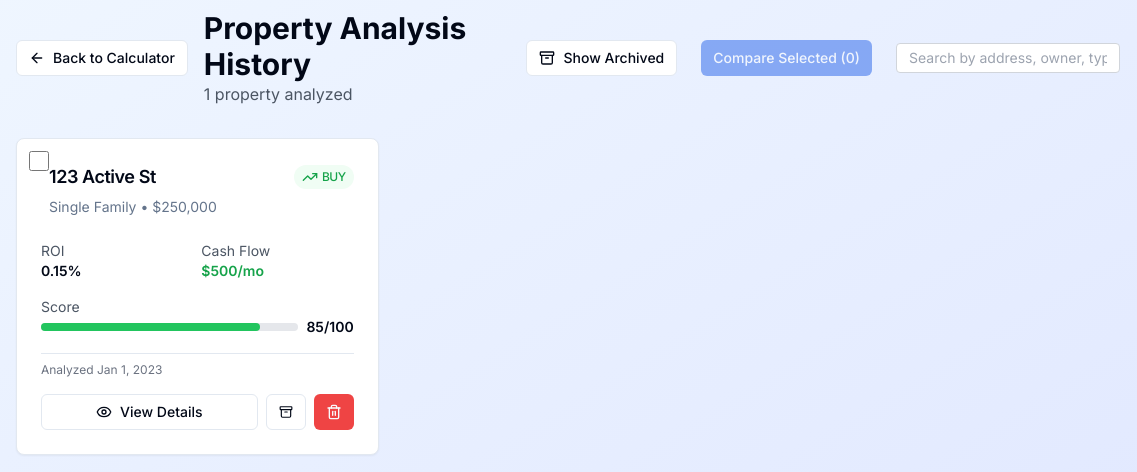
Scenario: Property Archive UI › Archive Filter Toggle › should toggle to show archived properties when clicked
Expected: the text "123 Active St" is shown, [49,166,156,187]
Click show archived toggle
Click the button "Show Archived" at (602, 58), box [526,40,677,76]
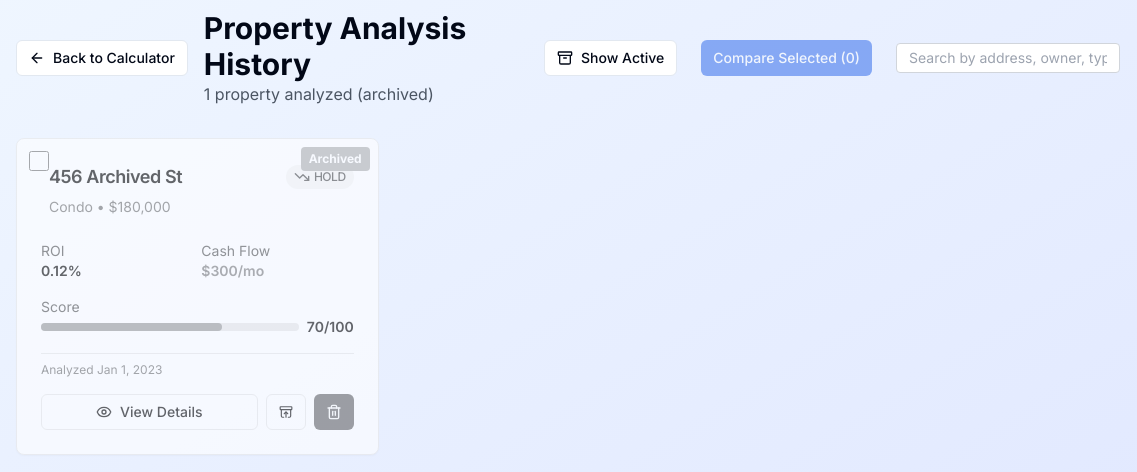
Expected: the text "456 Archived St" is shown, [49,166,182,187]
